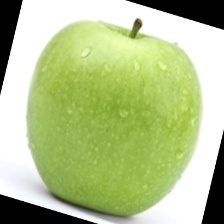apple: (29, 28, 202, 224)
